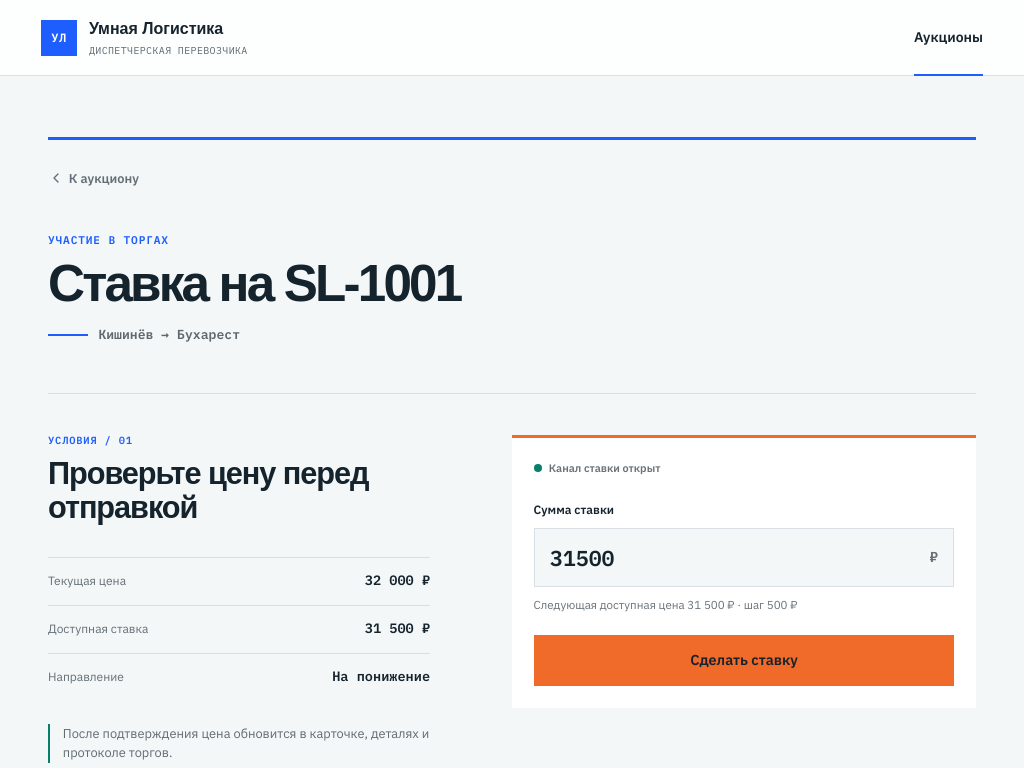
Test case: auction place-bid feature › blocks client-invalid prices without sending a mutation
Replace the text in the field labelled "Сумма ставки" with "31250". click: (732, 558)
box: [535,529,930,586]
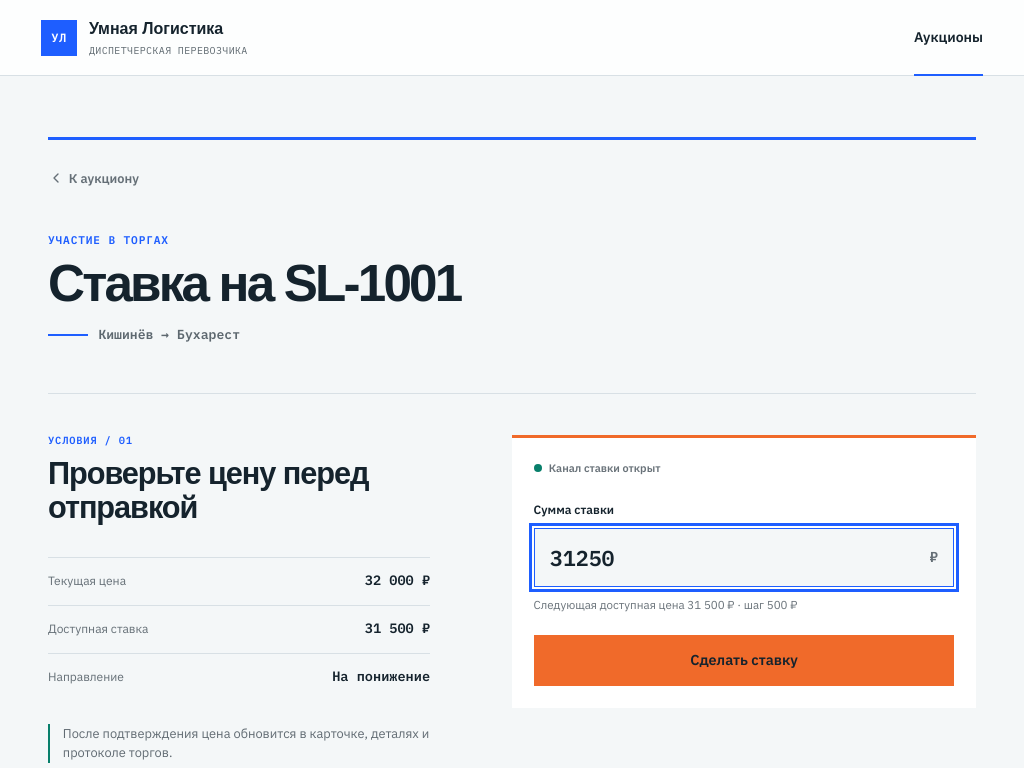
Click the button "Сделать ставку". click: (744, 660)
box: [534,635,954,686]
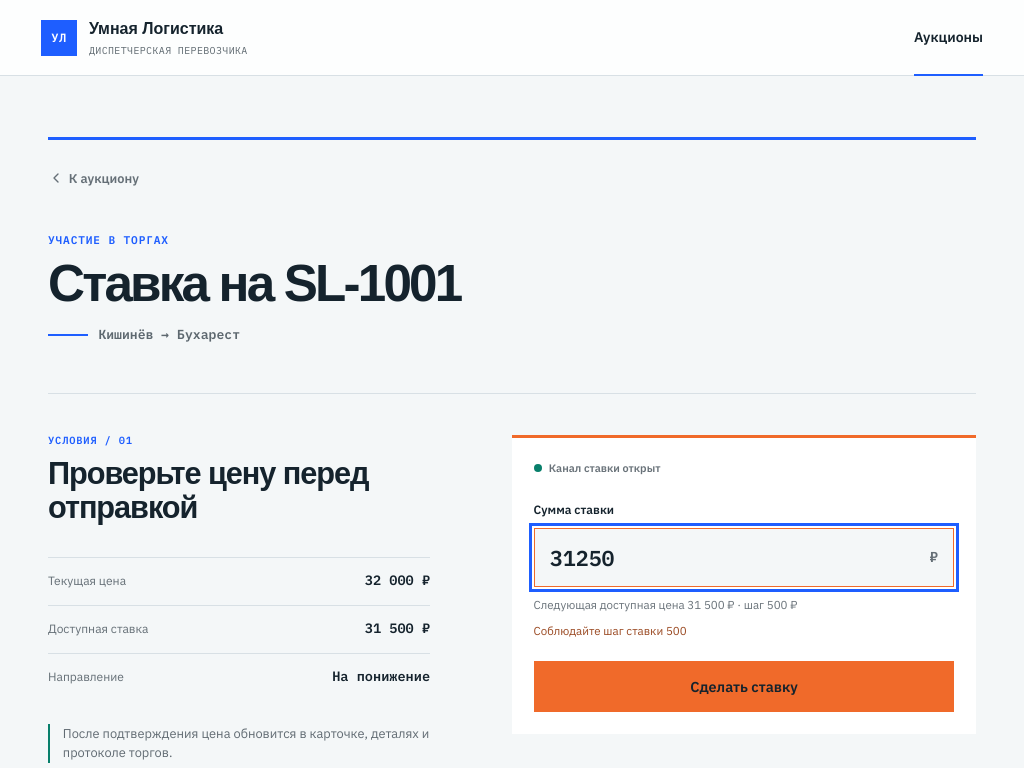
Expected: the message reads "Соблюдайте шаг ставки 500", [534,623,687,638]
